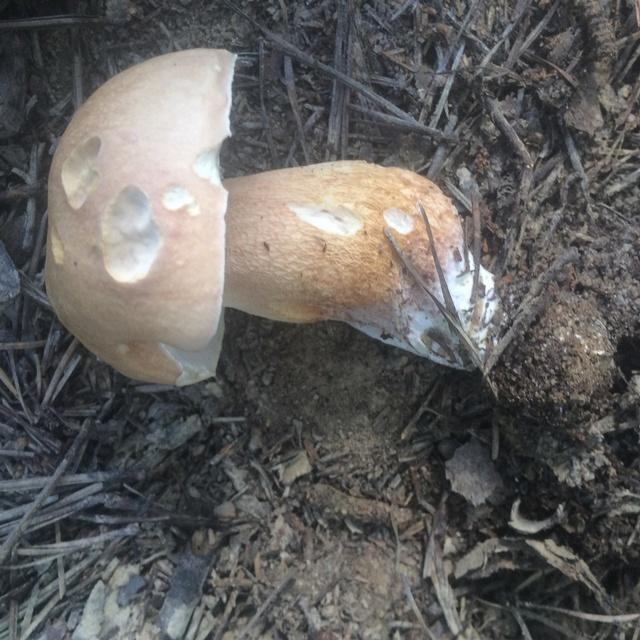Non-edible Mushroom: (41, 46, 504, 388)
